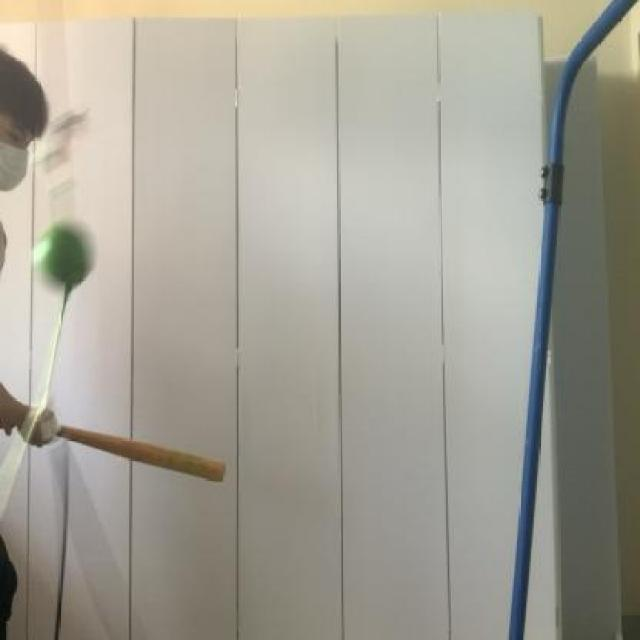baseball: (29, 213, 103, 295)
